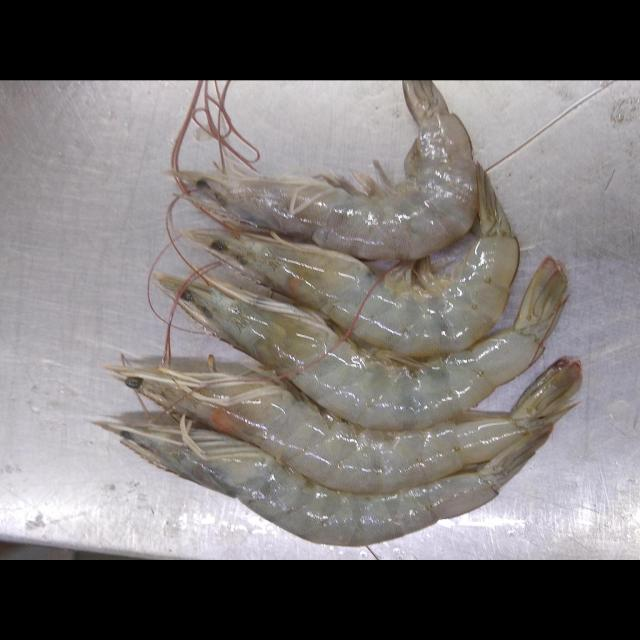shrimp: (180, 258, 567, 430), (108, 359, 582, 494), (95, 419, 550, 546), (172, 81, 478, 260), (185, 230, 518, 358)
